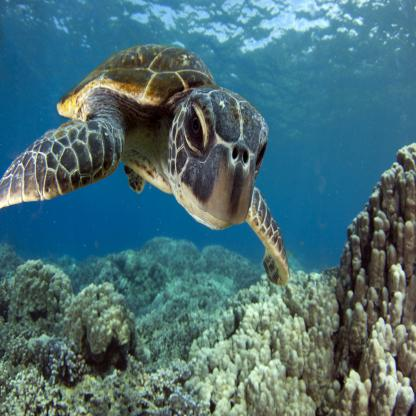turtle: (163, 78, 272, 237)
